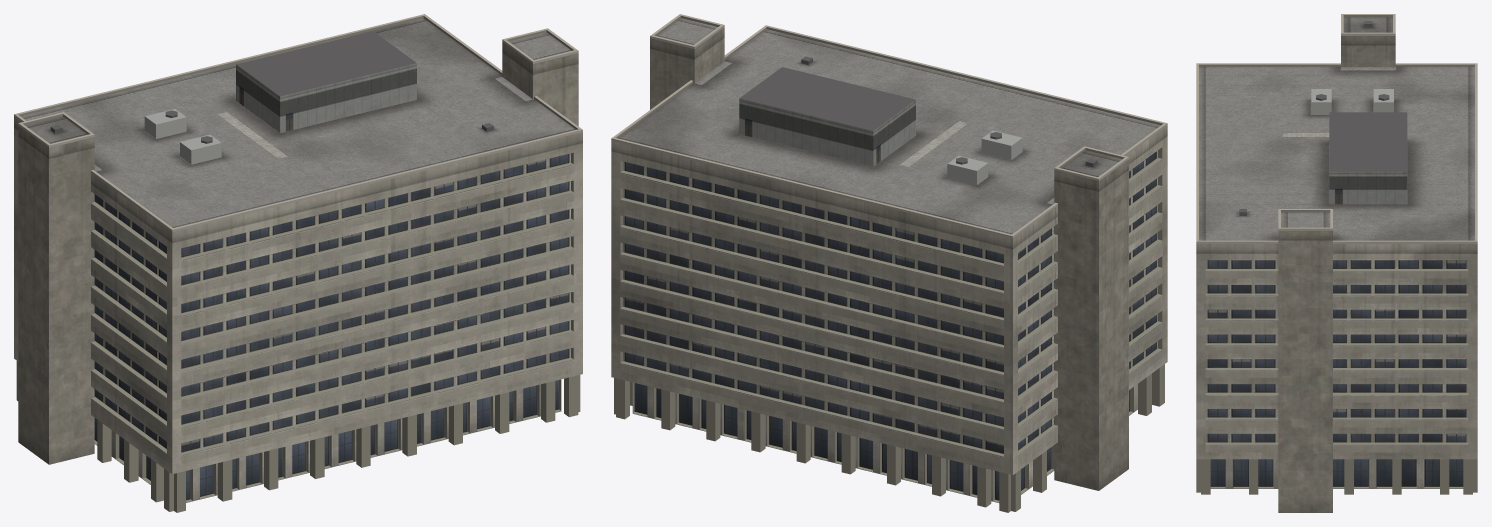
File: dc_brutal_c.glb
3 views of the same model, side by side, from view 1: azimuth 30°, elevation 25°; view 2: azimuth 150°, elevation 25°; view 3: azimuth 270°, elevation 25° (orthographic). The views are drawn at different scales.
Parts seen in each view (by area): view 1: dc_brutal_c; view 2: dc_brutal_c; view 3: dc_brutal_c.
Boxes of the visible parts, box(x1,y1,x2,y2) form: dc_brutal_c: box(14, 14, 582, 512); dc_brutal_c: box(611, 14, 1167, 512); dc_brutal_c: box(1196, 14, 1477, 512).
Bounding box in the file's own units: 65 × 40.3 × 36.
Materials: 1 (1 with a texture image).
